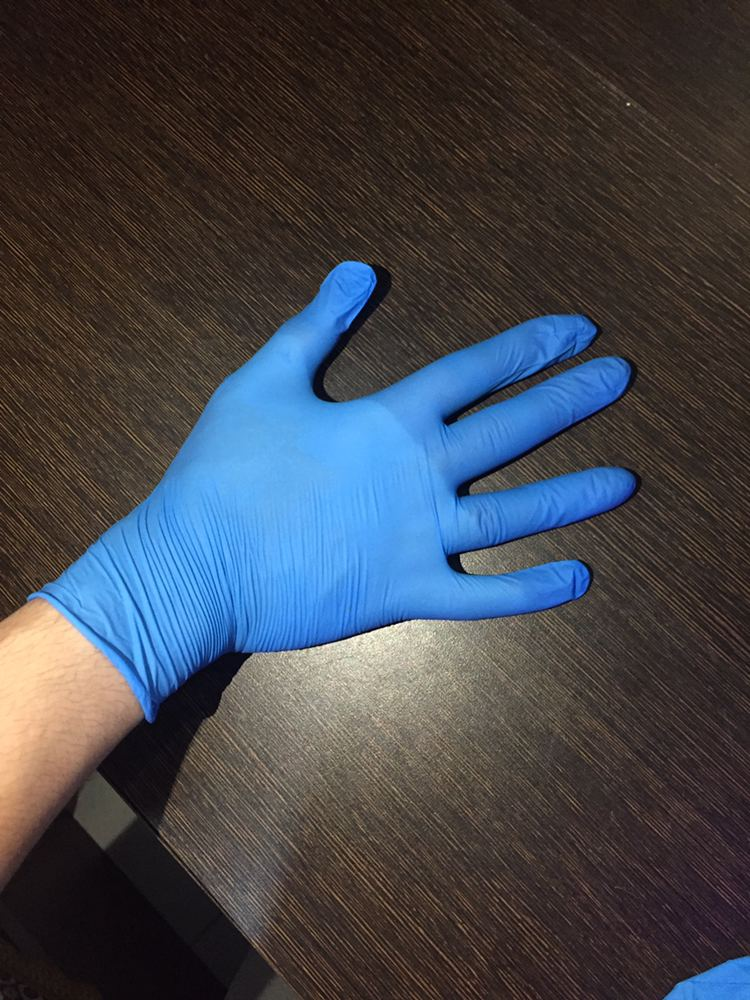glove: (180, 207, 674, 751)
